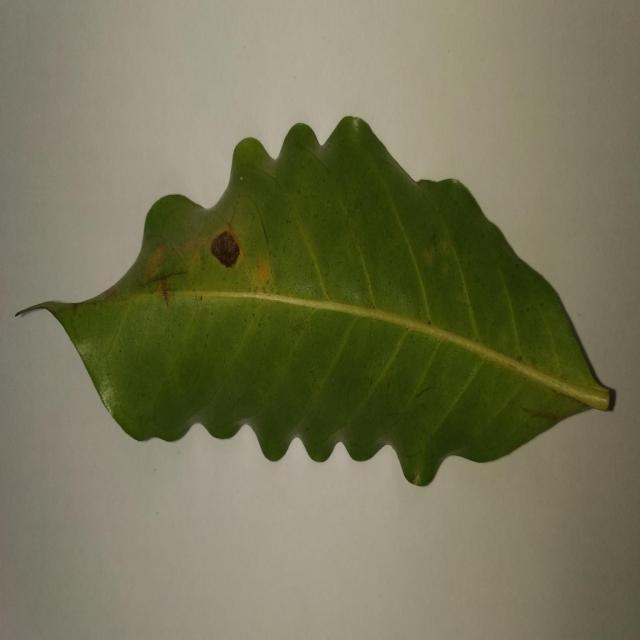Enfermedad-Mancha-de-hierro: (16, 117, 618, 491)
